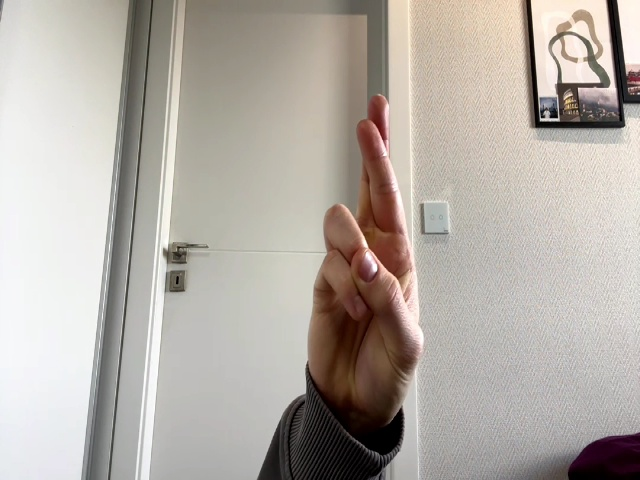R: (307, 94, 424, 422)
